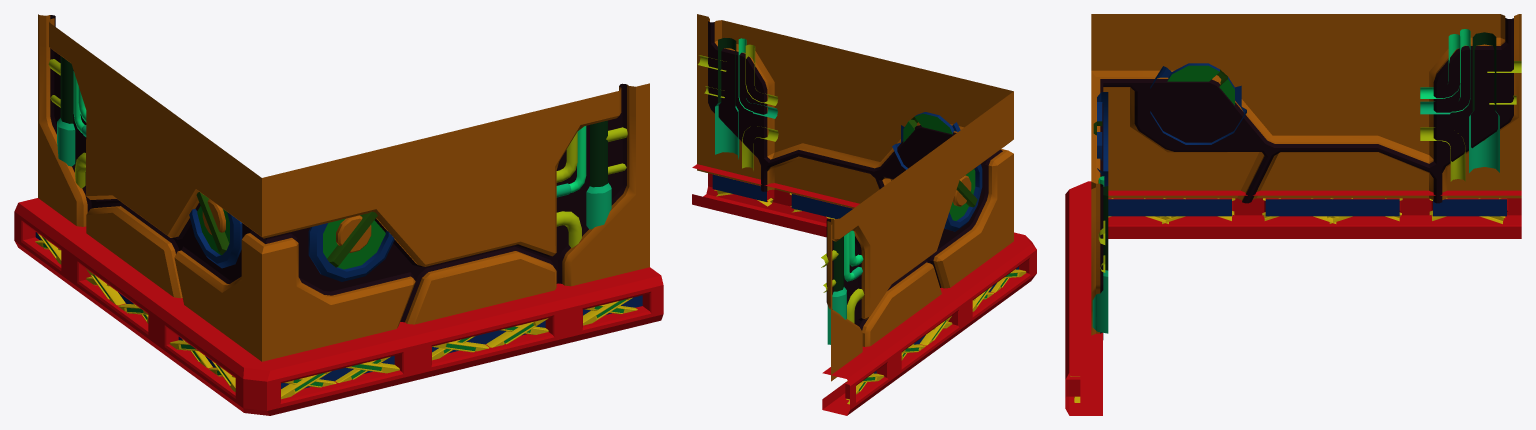
Rendered from OBJ_Mur_Coin.fbx.
3 renders of one model, left to right at view 1: azimuth 30°, elevation 25°; view 2: azimuth 150°, elevation 25°; view 3: azimuth 270°, elevation 25°, orthographic. The views are drawn at different scales.
Visible parts, largest first — view 1: OBJ_Mur_coin; view 2: OBJ_Mur_coin; view 3: OBJ_Mur_coin.
Part boxes in pixels (box(x1,y1,x2,y2)): OBJ_Mur_coin: box(14, 14, 663, 415); OBJ_Mur_coin: box(692, 14, 1036, 415); OBJ_Mur_coin: box(1065, 14, 1521, 415).
Bounding box in the file's own units: 3817 × 2030 × 3817.
